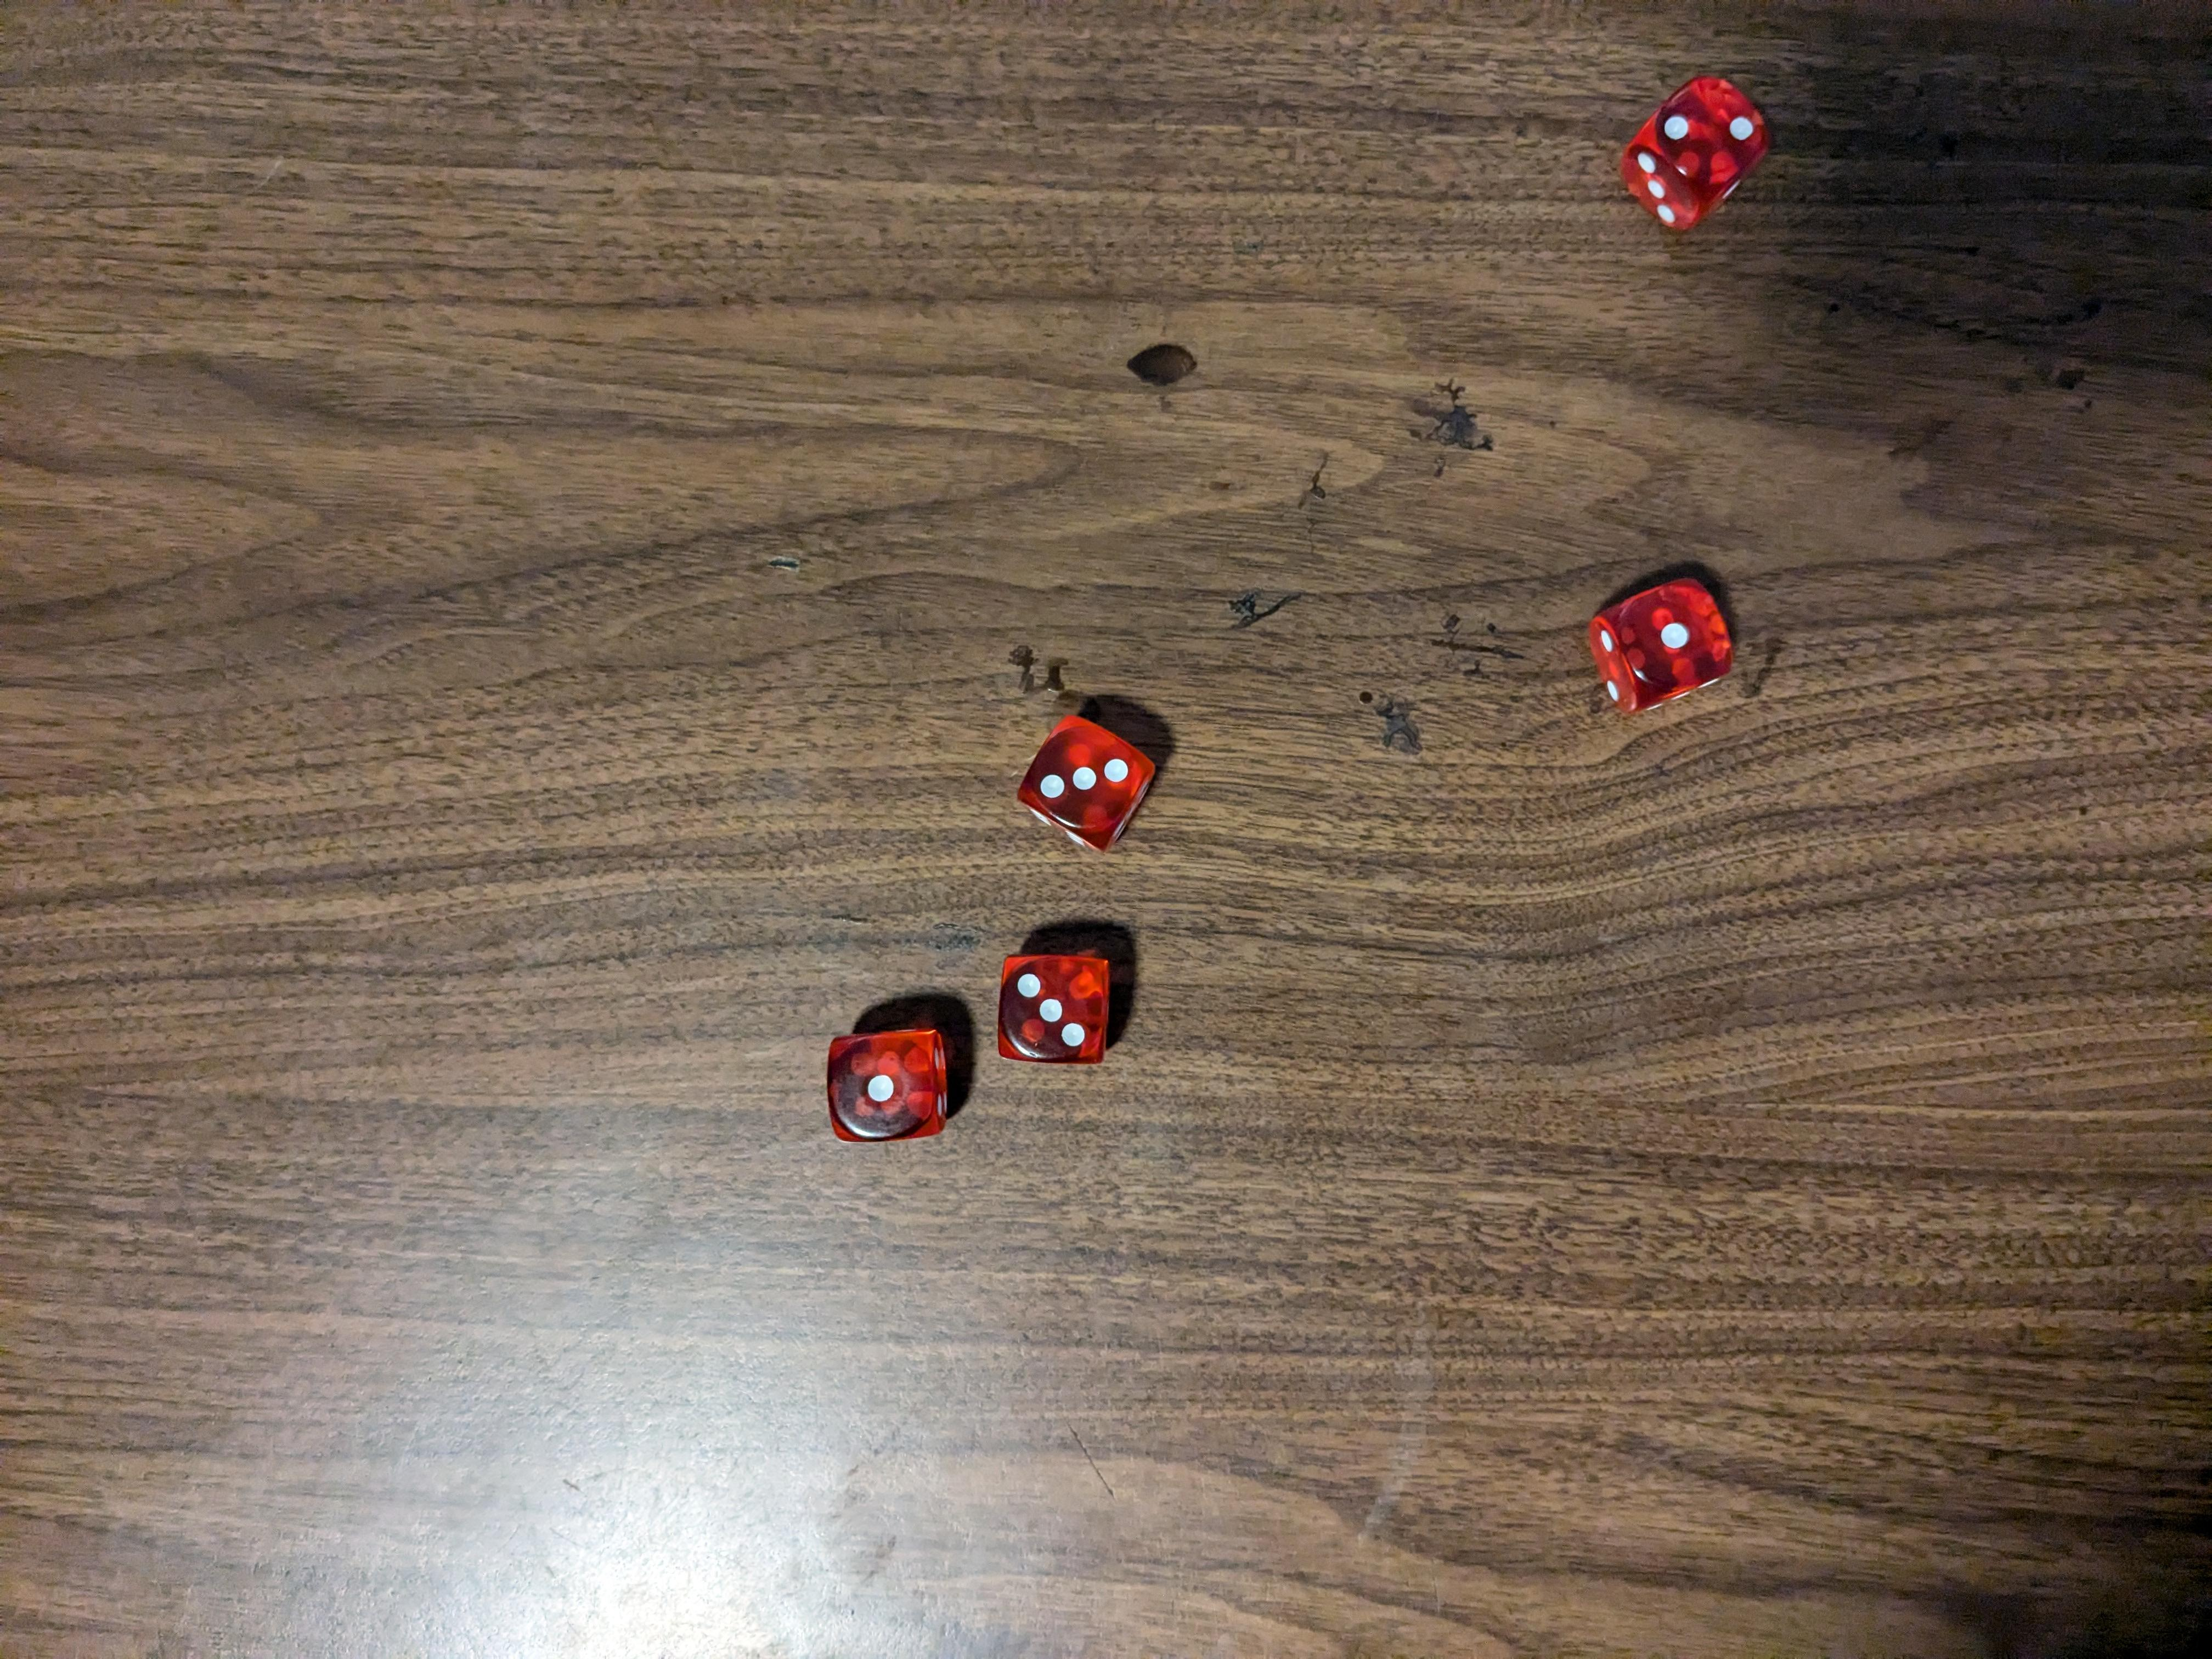one: (1587, 572, 1740, 720), (827, 1018, 949, 1147)
three: (1012, 713, 1160, 857), (989, 948, 1118, 1070)
two: (1620, 77, 1775, 237)
